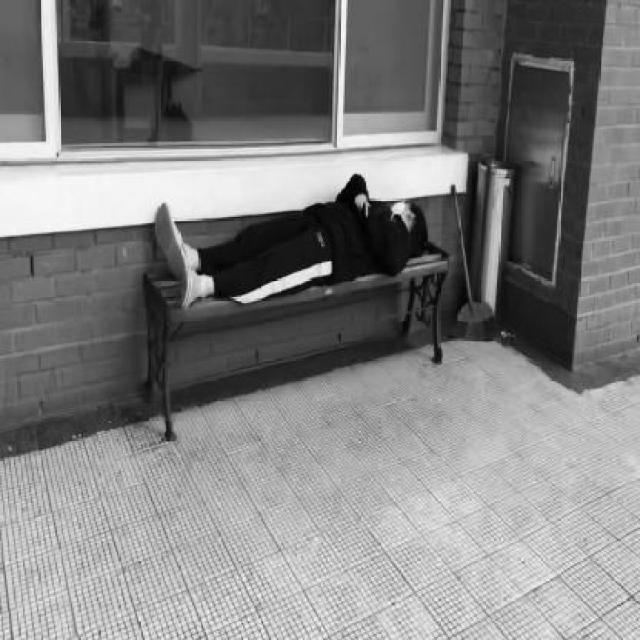person: (156, 176, 427, 310)
